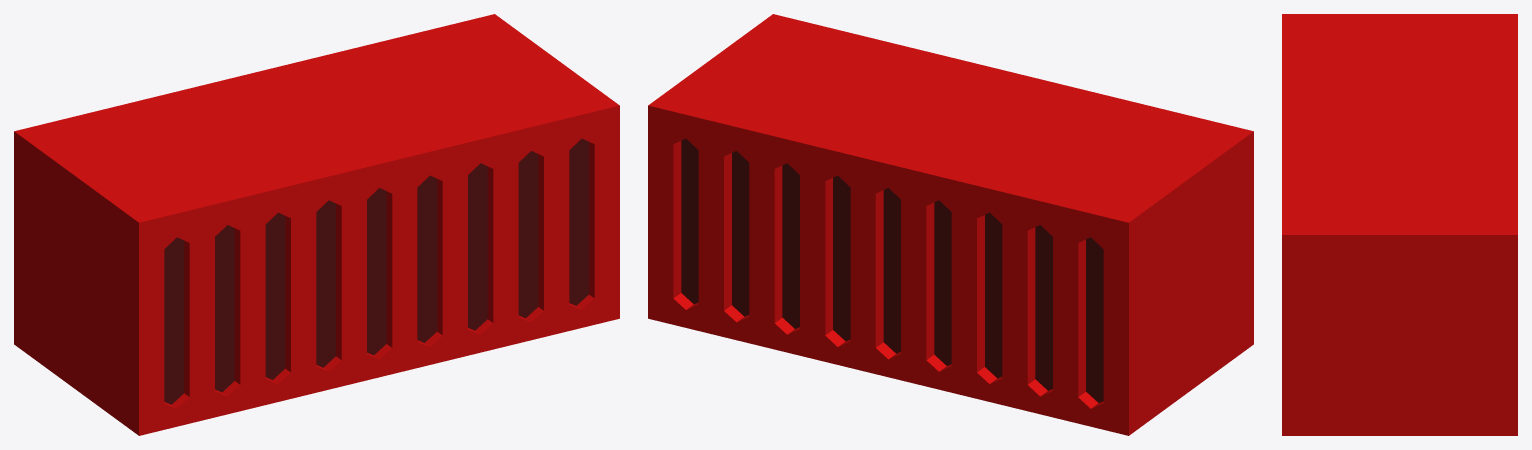
Rendered from container1.FBX.
The picture shows the model from 3 angles, left to right: view 1: azimuth 30°, elevation 25°; view 2: azimuth 150°, elevation 25°; view 3: azimuth 270°, elevation 25°; orthographic projection. The views are drawn at different scales.
Parts seen in each view (by area): view 1: Box001; view 2: Box001; view 3: Box001.
Boxes of the visible parts, x1,y1,x2,y2 form: Box001: (14,14,619,435); Box001: (648,14,1253,435); Box001: (1282,14,1517,435).
Bounding box in the file's own units: 114 × 48.16 × 51.2.
